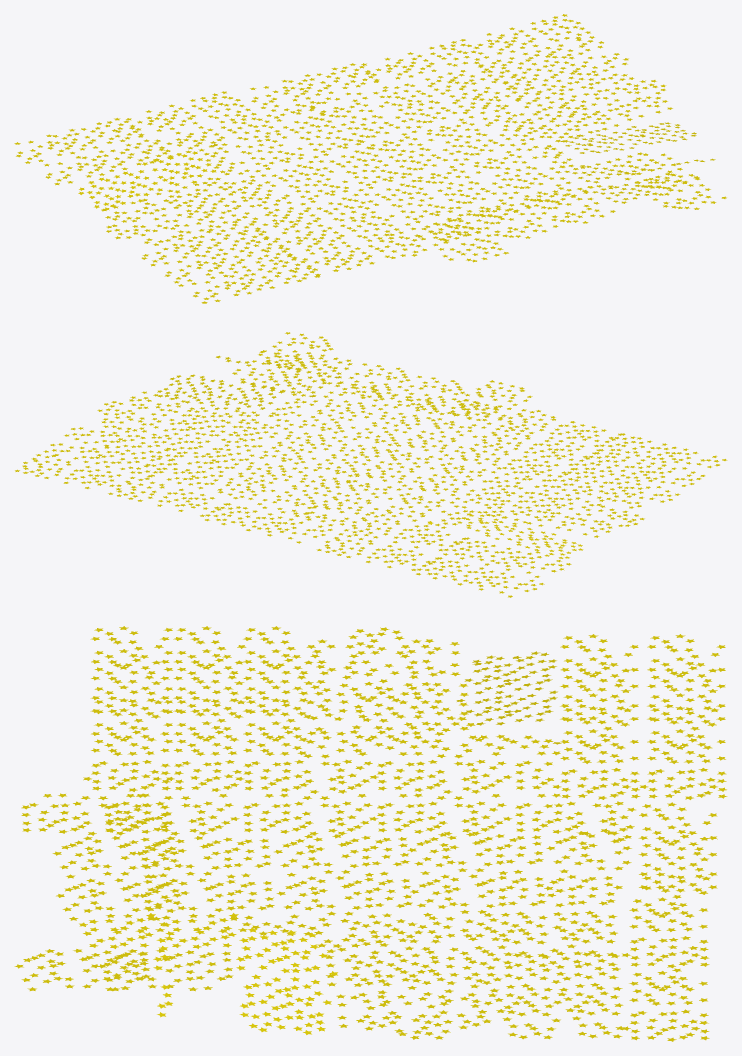
File: stars_10.glb
The picture shows the model from 3 angles, top to bottom: view 1: azimuth 30°, elevation 25°; view 2: azimuth 150°, elevation 25°; view 3: azimuth 270°, elevation 25°; orthographic projection. The views are drawn at different scales.
Size of the model in its own units: 177 by 4.33 by 129.
